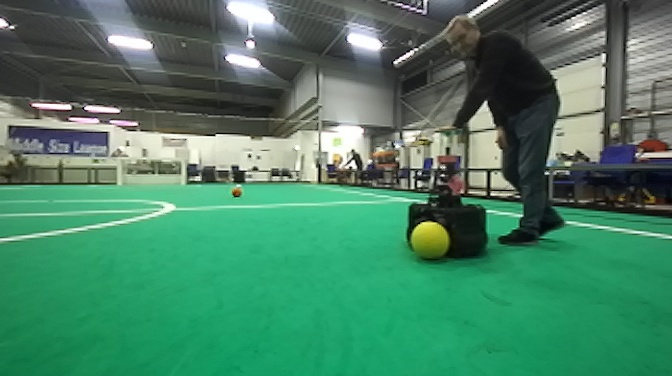ball: (405, 218, 452, 265), (228, 184, 244, 199)
goal: (116, 158, 186, 187)
goalpost: (117, 157, 122, 187), (181, 158, 186, 187)
human: (429, 12, 568, 250)
robot: (402, 125, 492, 263)
